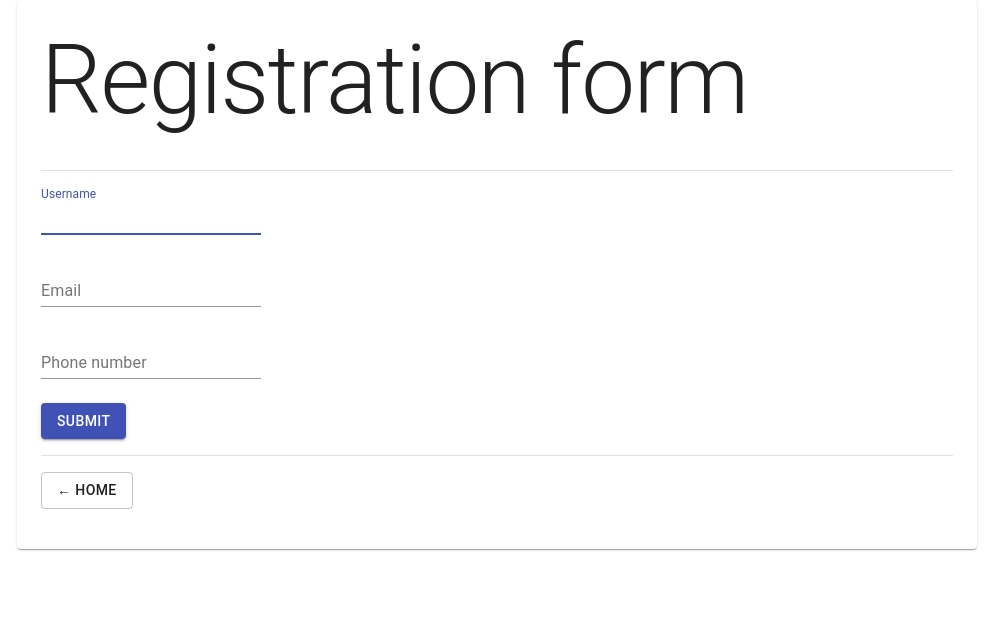
Test: form on submit › should display error status message received from API
The width and height of the screenshot is (995, 632).
Type "userName" into the field labelled "Username". click: (151, 219)
box: [41,203,261,235]
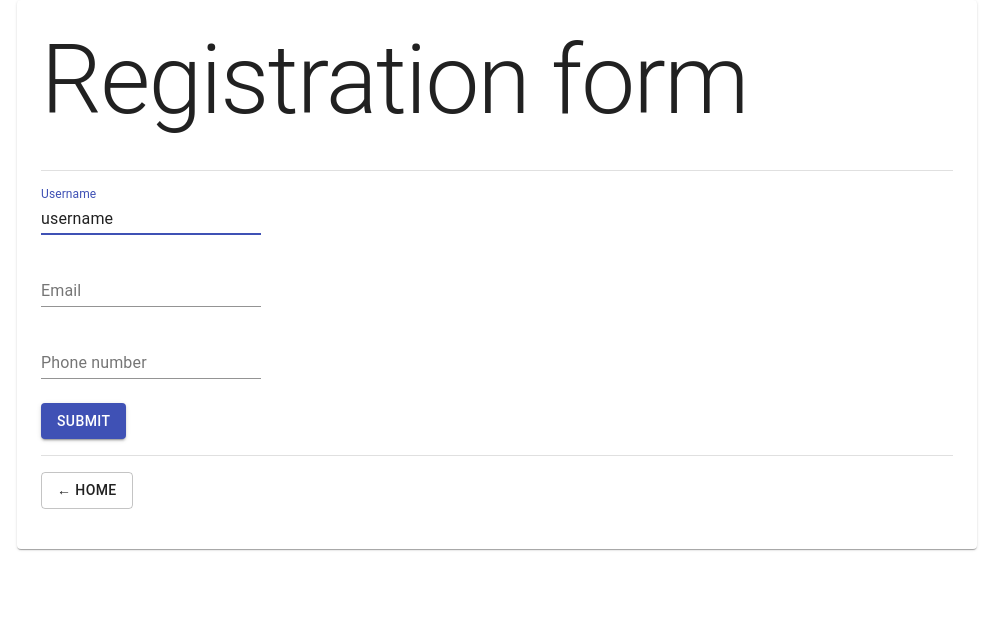
Type "abc@abc.de" into the field labelled "Email". click: (151, 291)
box: [41,275,261,307]
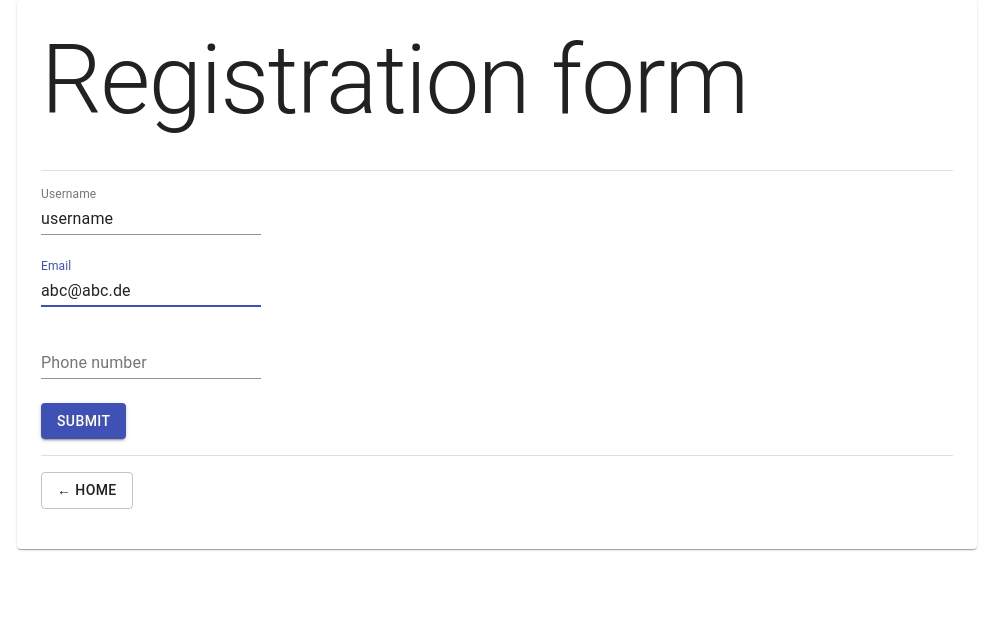
Type "3121231234" into the field labelled "Phone number". click: (151, 363)
box: [41,347,261,379]
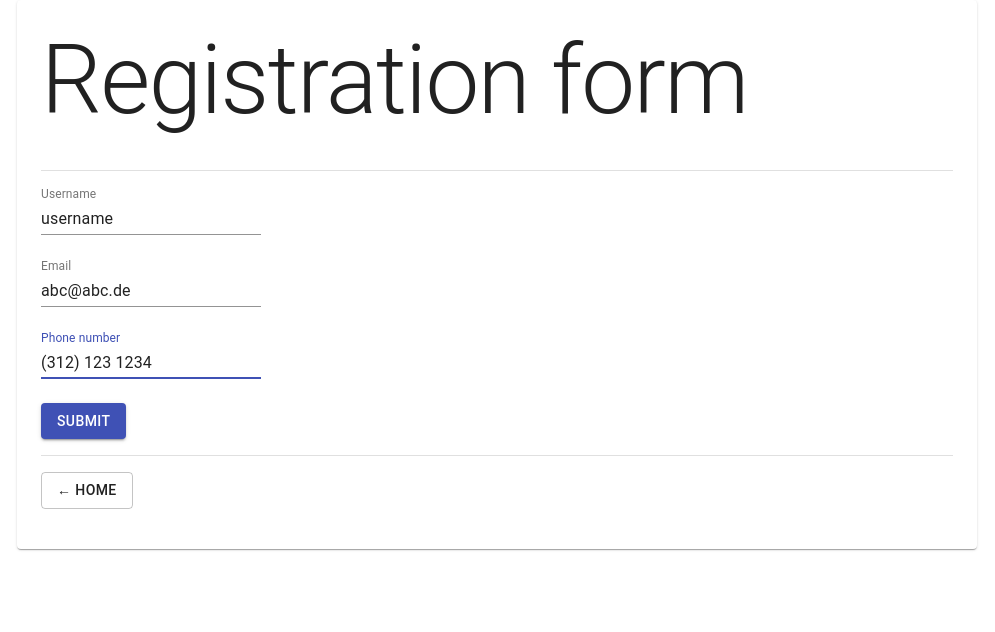
Click the button "Submit". click: (84, 421)
box: [41,403,126,439]
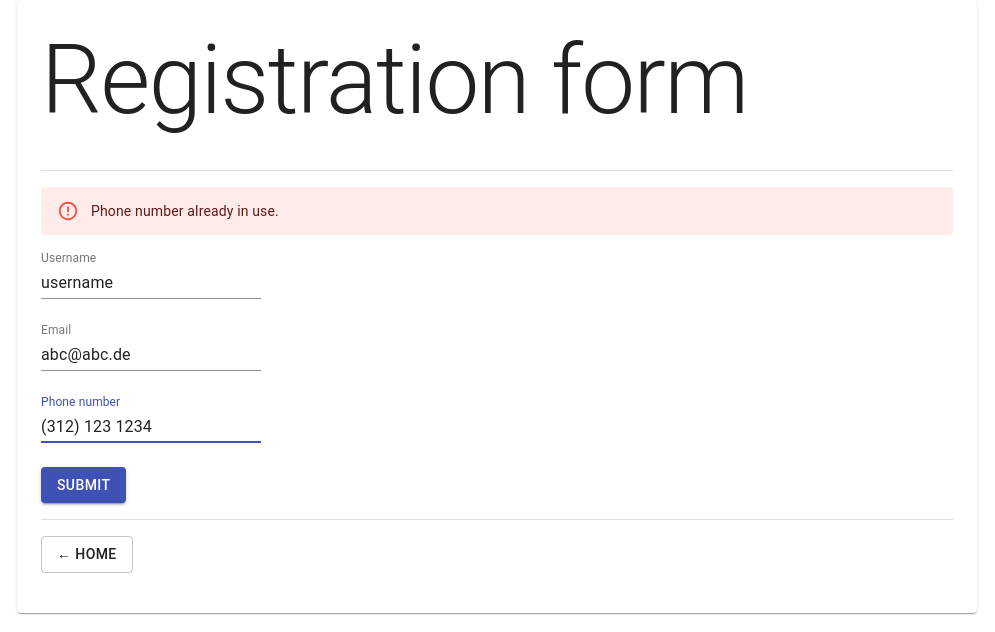
Expected: the text "Phone number already in use." is shown, [91,203,279,219]
